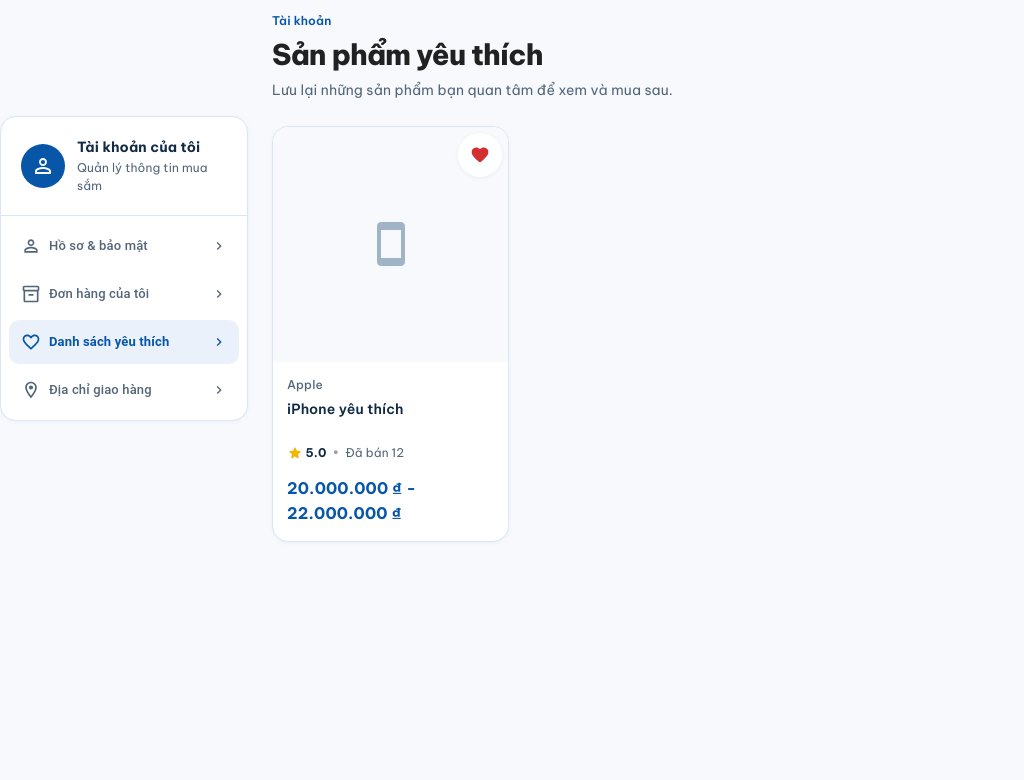
Scenario: US-11.3: Wishlist › renders the authenticated user's wishlist and removes an item
Expected: the heading "Sản phẩm yêu thích" is shown, x1=272 y1=36 x2=543 y2=73
Expected: the heading "iPhone yêu thích" is shown, x1=287 y1=400 x2=404 y2=418
What coordinates should you click on to do the following:
click the button named "Xoá khỏi yêu thích"
I would click on:
 (480, 155)
Its box is x1=458 y1=133 x2=502 y2=177.
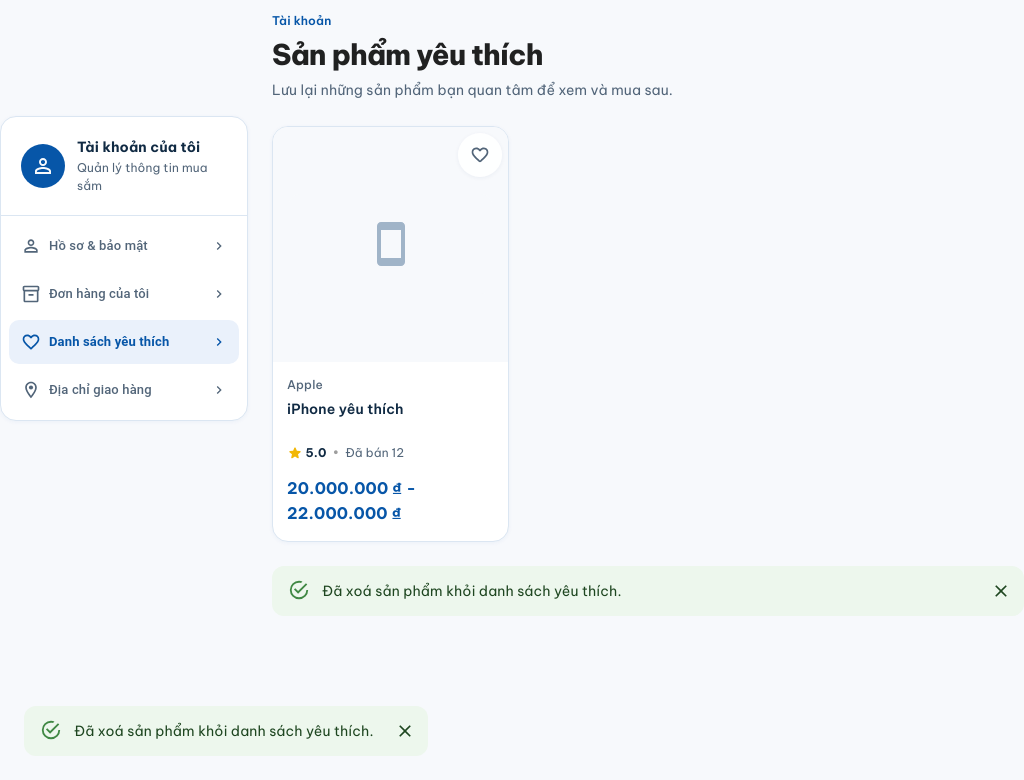
Now the text "Đã xoá sản phẩm khỏi danh sách yêu thích." below "20.000.000 ₫ - 22.000.000 ₫" is shown, box x1=74 y1=722 x2=374 y2=740
